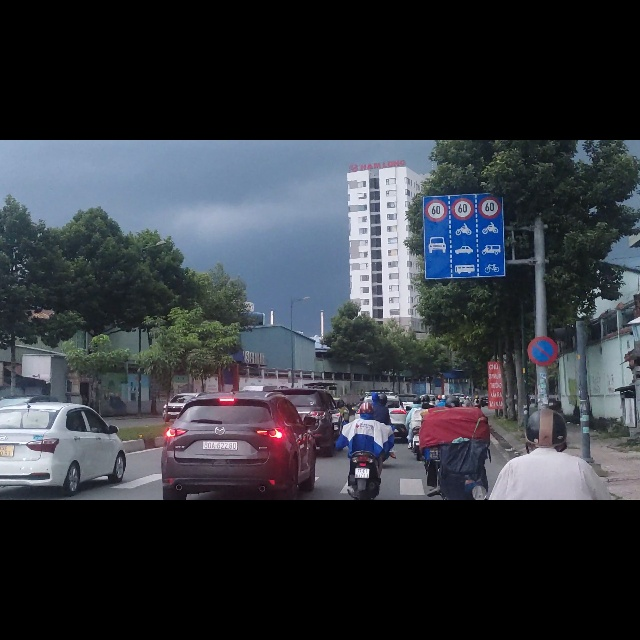bien_chi_dan: (424, 142, 504, 247), (528, 348, 558, 401), (425, 106, 448, 145), (451, 103, 474, 142), (479, 101, 500, 140)
